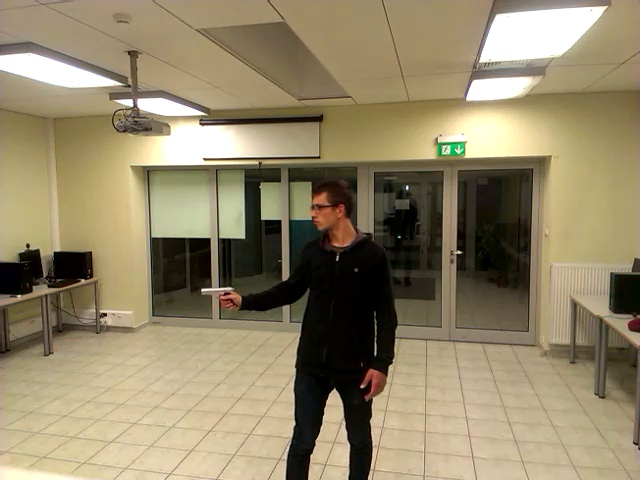gun: (182, 266, 254, 321)
